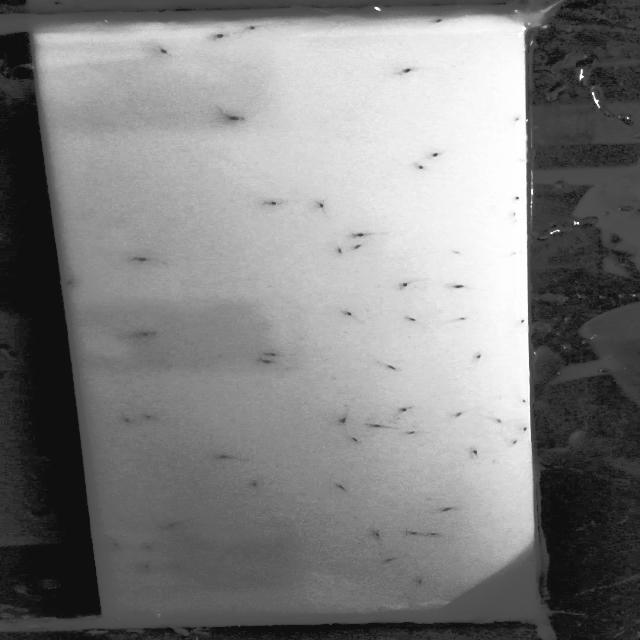shrimp: (326, 246, 365, 266), (216, 106, 249, 128), (395, 310, 430, 328), (483, 414, 514, 434), (134, 326, 172, 342), (256, 195, 294, 210), (146, 42, 181, 58), (383, 65, 423, 79), (346, 226, 381, 242), (442, 277, 470, 296), (501, 188, 530, 206), (348, 239, 372, 259), (211, 452, 245, 466), (334, 304, 360, 322), (425, 145, 446, 165), (130, 250, 153, 268), (405, 160, 434, 174), (510, 314, 539, 328), (466, 349, 495, 363), (402, 575, 429, 590), (264, 342, 284, 362), (325, 481, 352, 495), (447, 312, 476, 325), (242, 23, 267, 38), (434, 245, 464, 257), (388, 406, 418, 418), (105, 539, 132, 552), (381, 554, 406, 568), (378, 361, 404, 374), (445, 408, 471, 421), (395, 277, 419, 291), (161, 519, 184, 533), (171, 560, 194, 574), (501, 248, 527, 260), (64, 272, 80, 291), (518, 555, 538, 570), (207, 30, 231, 42), (316, 197, 334, 213), (117, 415, 143, 426), (139, 562, 158, 576), (401, 529, 425, 540), (256, 354, 273, 369), (404, 427, 422, 441), (138, 410, 157, 423), (336, 415, 356, 427), (346, 434, 365, 446), (514, 397, 534, 408), (370, 528, 390, 539), (518, 424, 536, 436), (142, 542, 160, 553), (243, 478, 260, 488), (369, 420, 383, 432), (430, 16, 445, 27), (438, 505, 453, 516), (506, 440, 525, 448), (429, 531, 444, 541), (471, 448, 484, 458)
